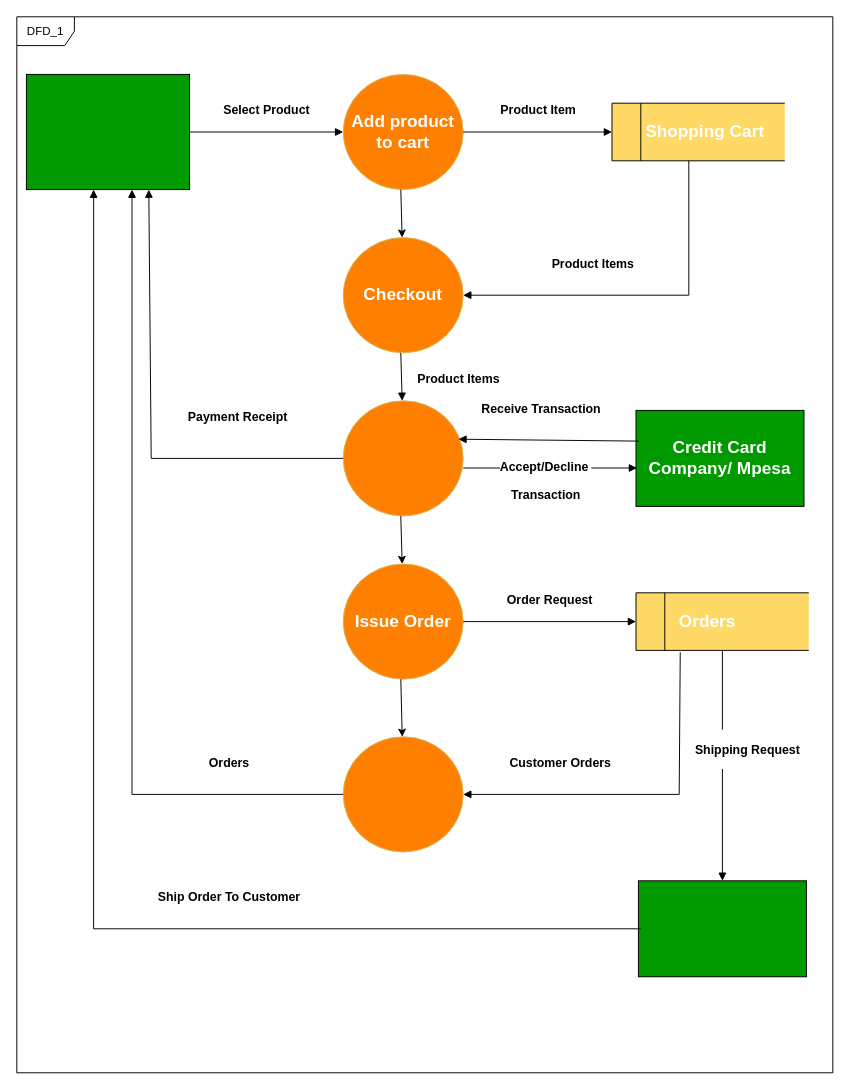
This 850x1090 diagram has some shape labels left out. Each missing label, with the centre of its shape:
Customer: the point at 107,131
Delivery Guy: the point at 721,928
Validate Payment Transaction: the point at 402,458
View Placed Orders: the point at 402,794
